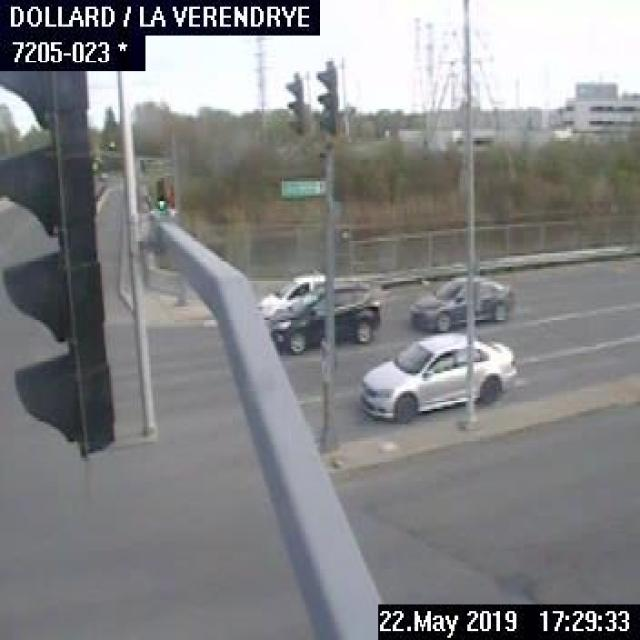vehicle: (356, 330, 518, 422), (265, 278, 380, 354), (407, 273, 511, 332), (254, 269, 328, 316)
